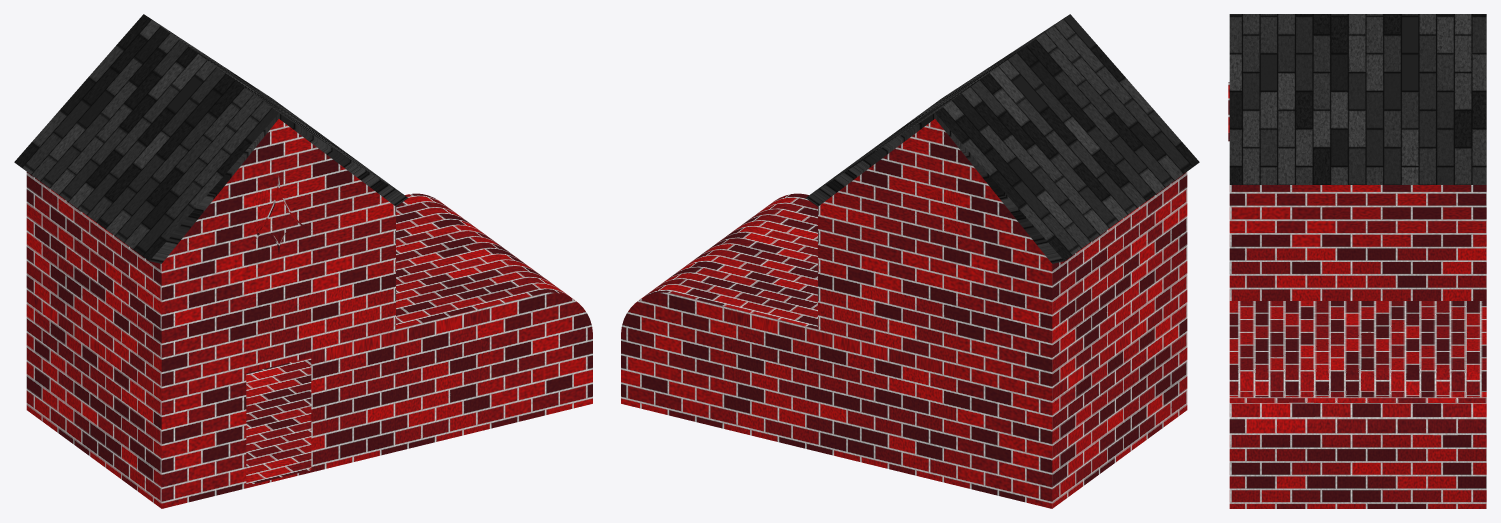
Rendered from church.gltf.
3 renders of one model, left to right at view 1: azimuth 30°, elevation 25°; view 2: azimuth 150°, elevation 25°; view 3: azimuth 270°, elevation 25°, orthographic. The views are drawn at different scales.
Parts seen in each view (by area): view 1: Bricks, Roofs; view 2: Bricks, Roofs; view 3: Bricks, Roofs.
Part boxes in pixels (x1,y1,x2,y2): Bricks: (26, 119, 592, 508); Roofs: (14, 14, 407, 263); Bricks: (621, 119, 1187, 508); Roofs: (806, 14, 1199, 263); Bricks: (1228, 82, 1486, 508); Roofs: (1229, 14, 1486, 184).
Size of the model in its own units: 3.79 by 3 by 2.01.
2 materials, 2 textured.
